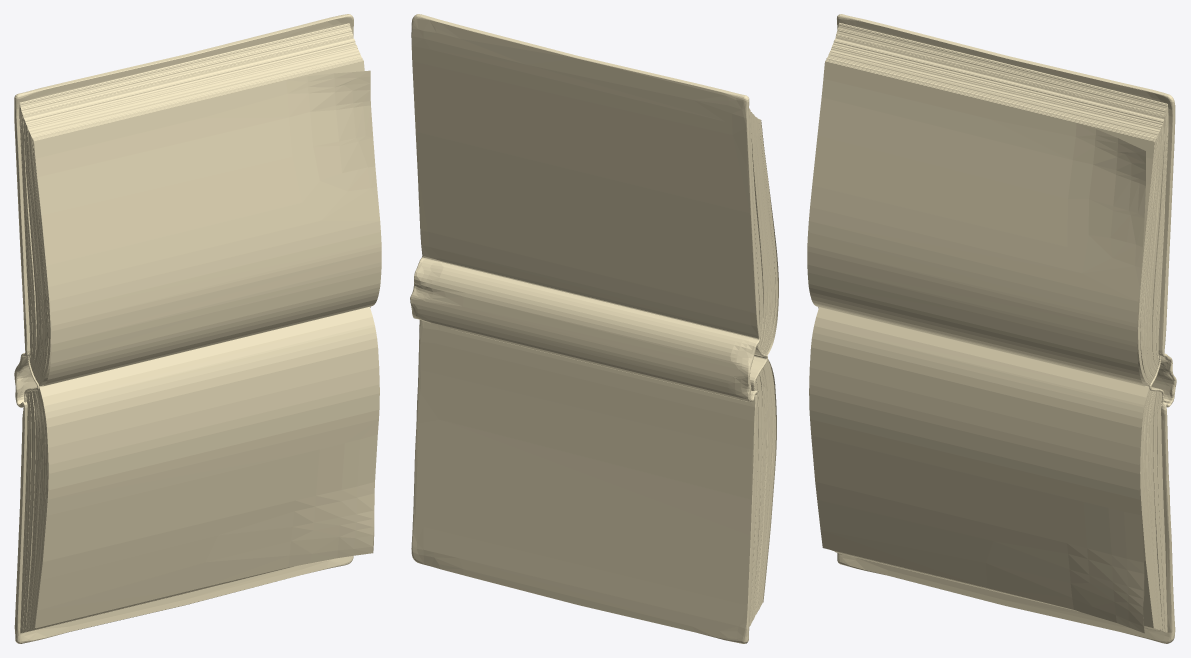
The model's file is nvidia_book_decree.glb.
The picture shows the model from 3 angles, left to right: view 1: azimuth 30°, elevation 25°; view 2: azimuth 150°, elevation 25°; view 3: azimuth 330°, elevation 25°; orthographic projection.
Parts seen in each view (by area): view 1: book_01_mesh_00; view 2: book_01_mesh_00; view 3: book_01_mesh_00.
Boxes of the visible parts, left/top/right/bottom form: book_01_mesh_00: left=14, top=14, right=381, bottom=643; book_01_mesh_00: left=410, top=14, right=778, bottom=643; book_01_mesh_00: left=807, top=14, right=1176, bottom=643.
Size of the model in its own units: 0.841 by 1.3 by 0.1511.
